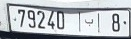0: (55, 10, 66, 29)
2: (36, 10, 46, 28)
4: (47, 11, 56, 30)
7: (16, 8, 25, 29)
8: (109, 12, 121, 33)
9: (27, 9, 36, 29)
b: (84, 17, 95, 29)
